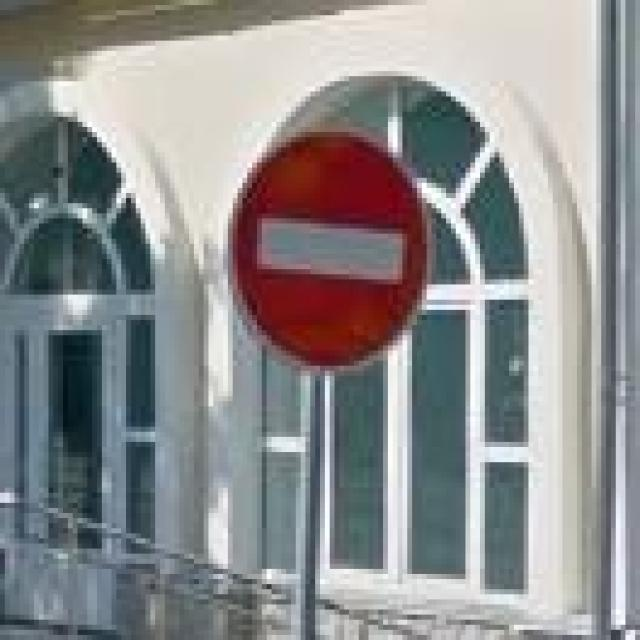traffic_sign: (228, 127, 436, 376)
